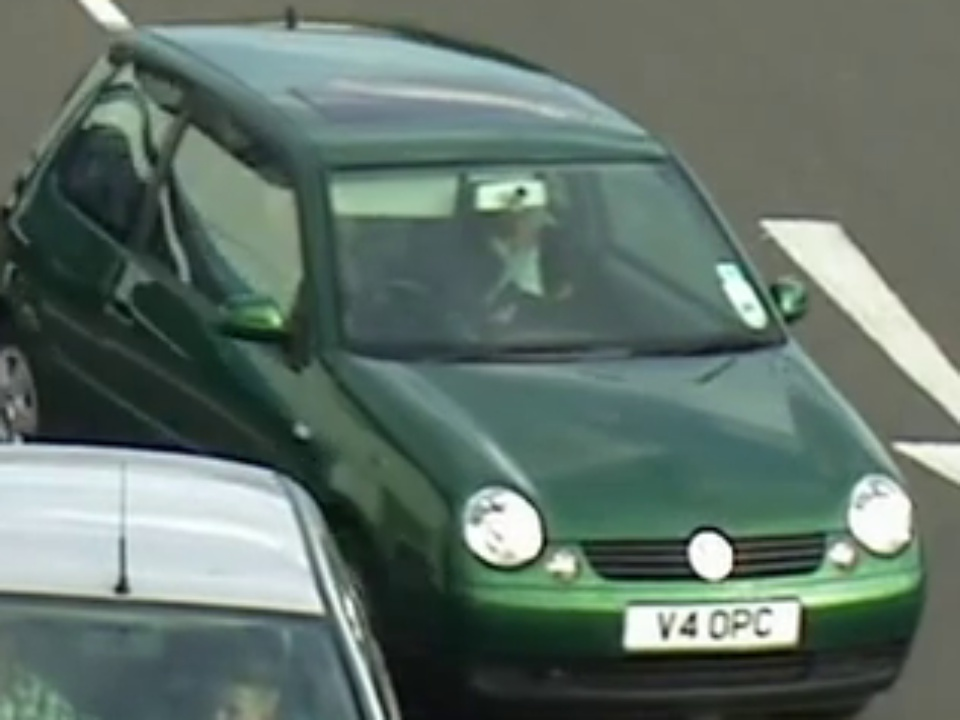ONE: (325, 168, 744, 338)
